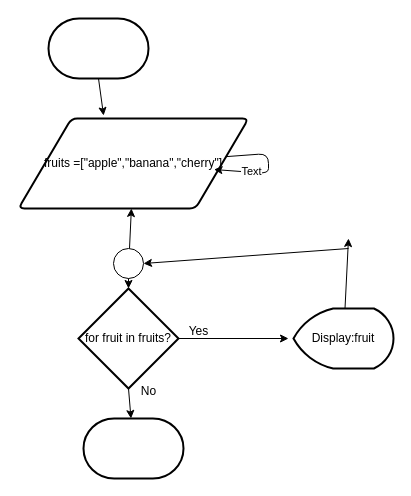
This 411x496 diagram has some shape labels left out. Here are the shapes that lost their labels. From the top down, the centre of each, then its label:
pixel 98 48: Start
pixel 133 448: stop
